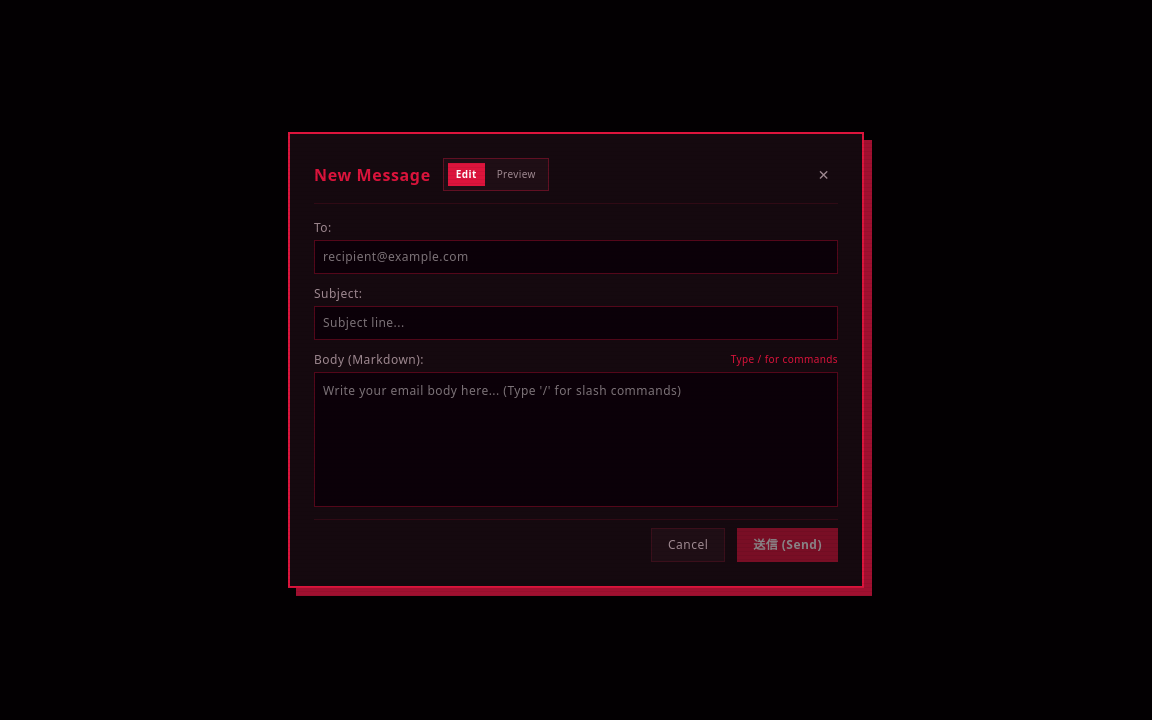
Test: MailComposeModal Stress & Boundary Tests › 2. Caret Insertion & Slash Command Menu Across Multi-Line Documents › inserts slash option at the beginning of multi-line body
The image size is (1152, 720).
Type "/h1" into the text box with test id "compose-body-textarea".
click(576, 440); type("/h1")  # box [314,372,838,507]
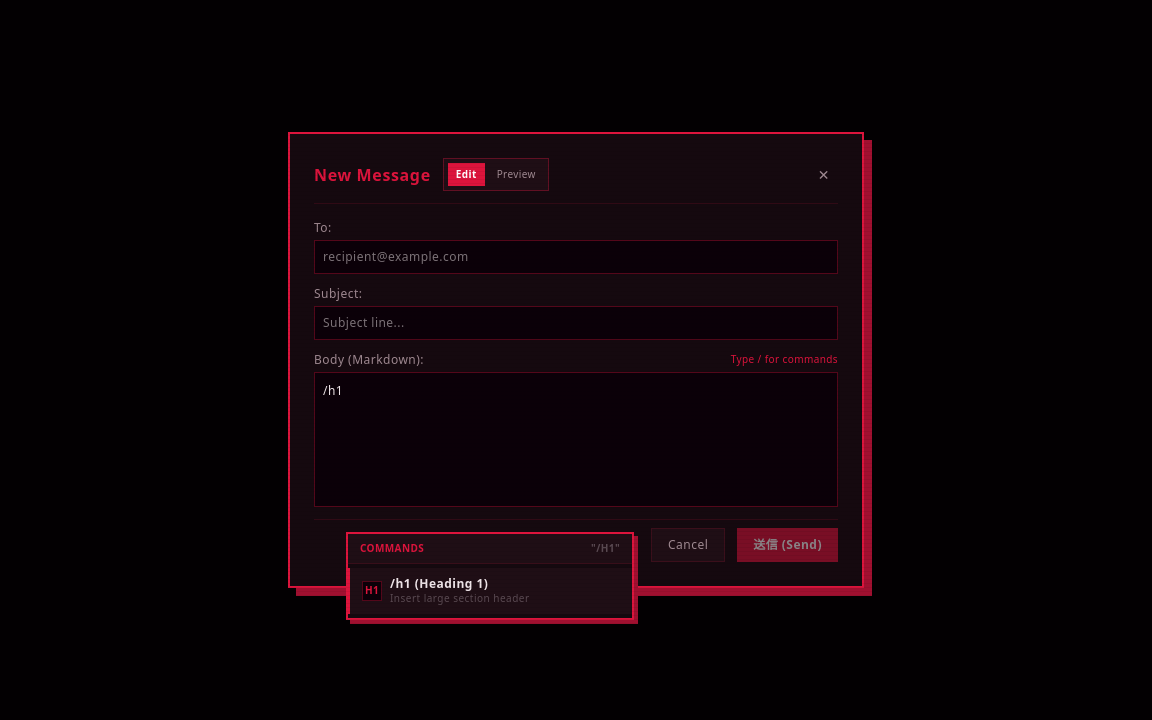
expect the list with test id "slash-command-menu" is shown: met, box [346,532,634,620]
Click the option with test id "slash-option-h1".
click(490, 591)  # box [348,568,632,614]
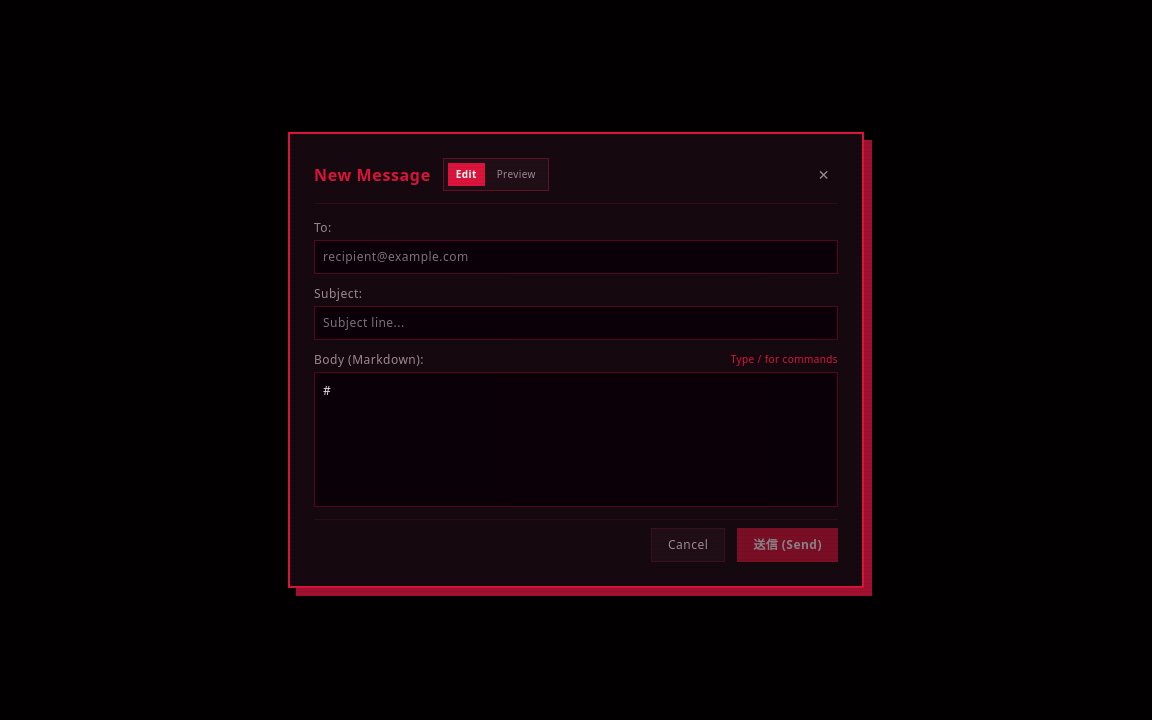
expect the list with test id "slash-command-menu" is gone: met
expect the text box with test id "compose-body-textarea" holds "# ": met, box [314,372,838,507]
